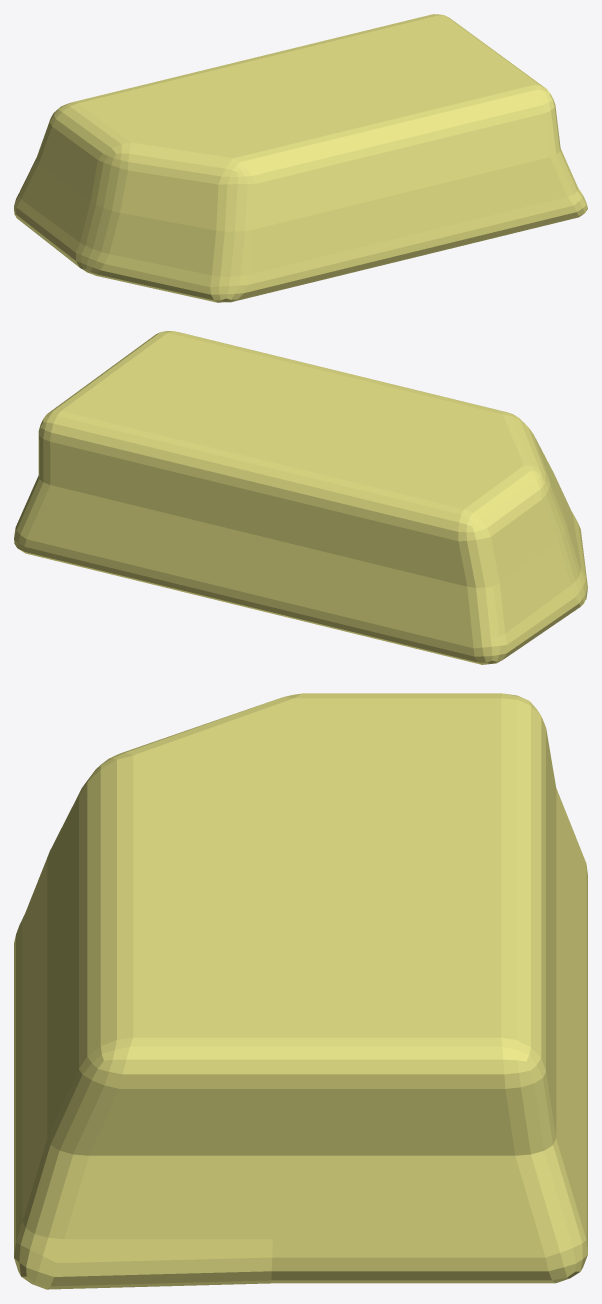
File: butter.fbx
3 views of the same model, one above another, from view 1: azimuth 30°, elevation 25°; view 2: azimuth 150°, elevation 25°; view 3: azimuth 270°, elevation 25° (orthographic). The views are drawn at different scales.
Visible parts, largest first — view 1: Cube; view 2: Cube; view 3: Cube.
Part boxes in pixels (box(x1,y1,x2,y2)): Cube: box(14, 14, 587, 302); Cube: box(14, 331, 587, 664); Cube: box(14, 693, 587, 1289).
Bounding box in the file's own units: 225 × 57.19 × 130.
